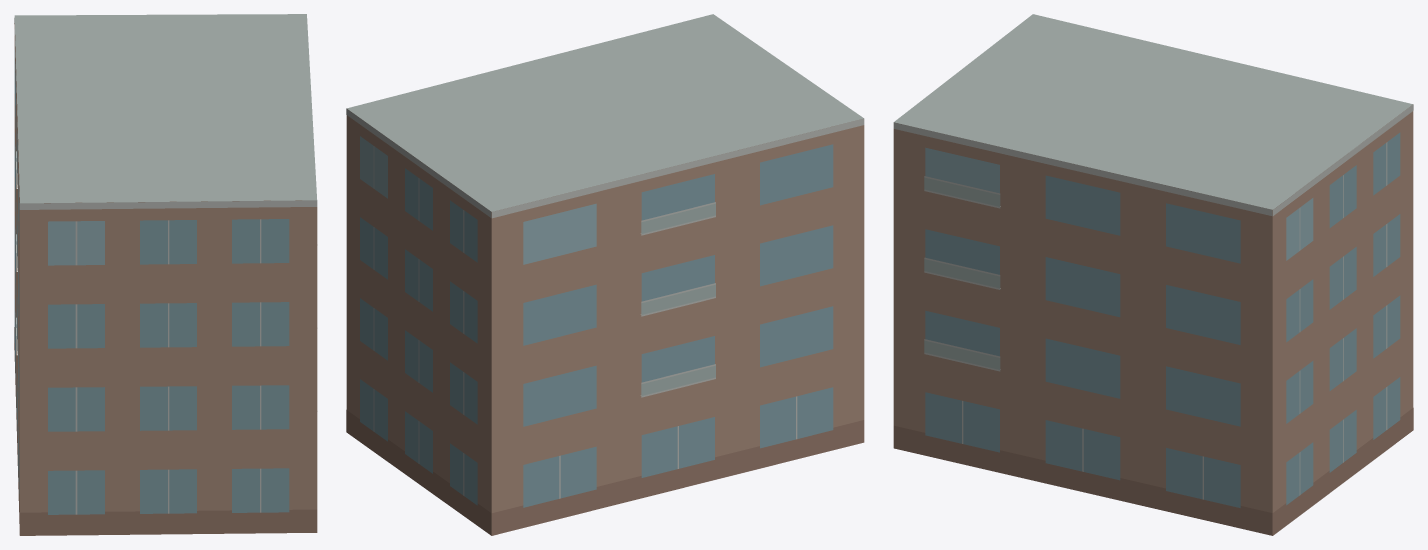
File: survey-upis-32854408.glb
3 views of the same model, side by side, from view 1: azimuth 30°, elevation 25°; view 2: azimuth 150°, elevation 25°; view 3: azimuth 270°, elevation 25° (orthographic). The views are drawn at different scales.
Parts seen in each view (by area): view 1: survey-upis-32854408.tmp; view 2: survey-upis-32854408.tmp; view 3: survey-upis-32854408.tmp.
Boxes of the visible parts, box(x1,y1,x2,y2) form: survey-upis-32854408.tmp: box(14, 14, 317, 535); survey-upis-32854408.tmp: box(346, 14, 864, 535); survey-upis-32854408.tmp: box(893, 14, 1413, 535).
Bounding box in the file's own units: 15.72 × 12.2 × 17.64.
